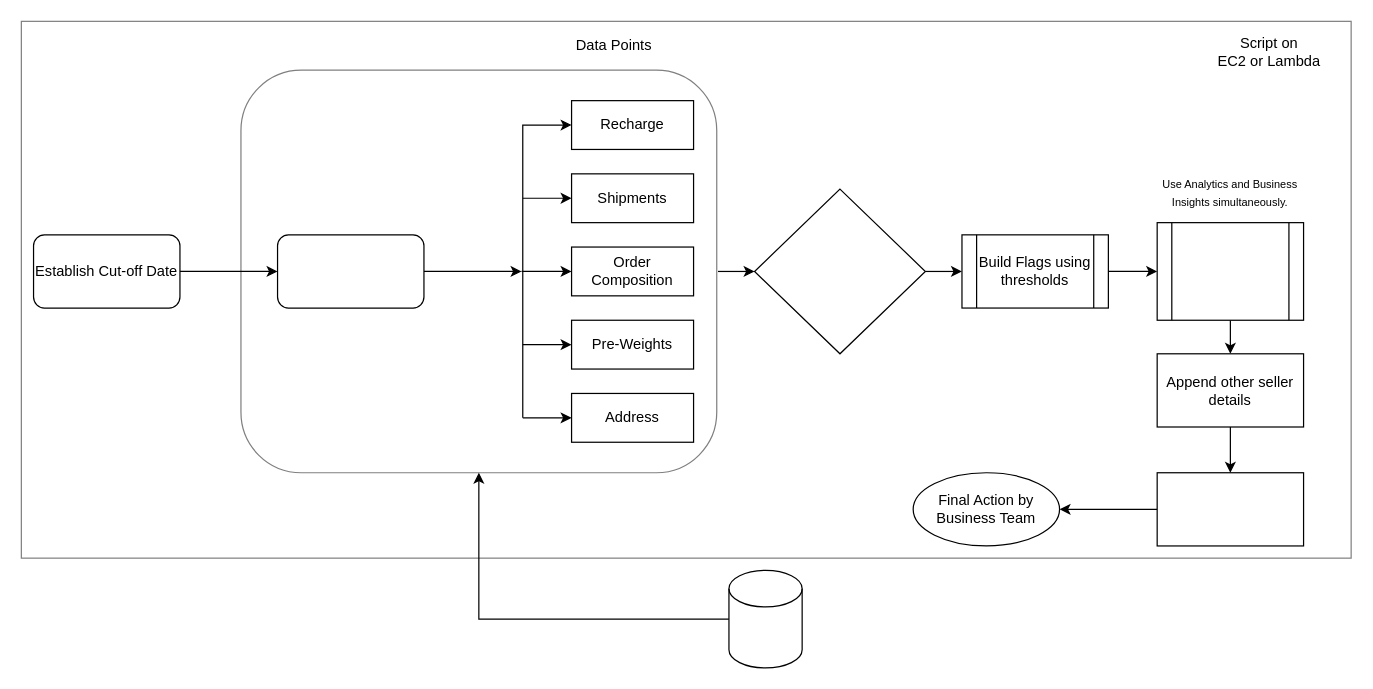
Some shapes in this 1373 by 689 pixel diagram are drawn without their labels. Each missing label, with the centre of its shape:
"Allot Priority on each seller." belongs at (x=1230, y=270).
"Fetch Sellers with signup post cut-off." belongs at (x=350, y=271).
"Redshift" belongs at (x=765, y=618).
"Thresholds from Historical Frauds" belongs at (x=839, y=271).
"Upload to Google Sheet Dashboard." belongs at (x=1230, y=509).
